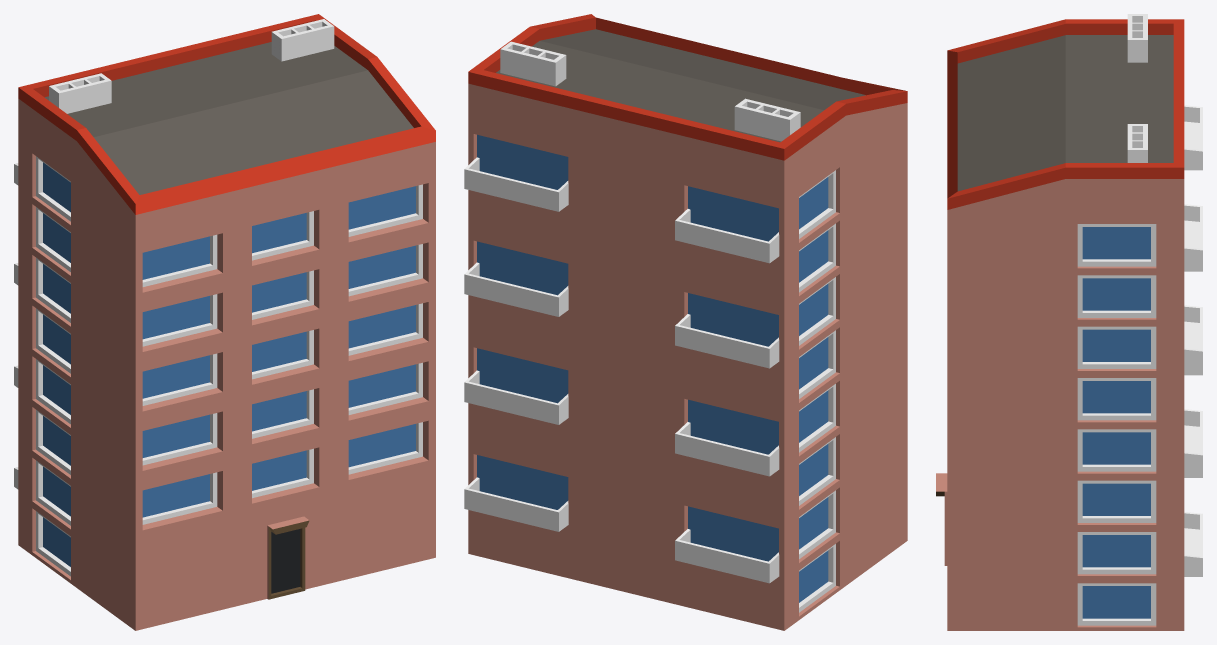
File: Building_2.fbx
3 renders of one model, left to right at view 1: azimuth 30°, elevation 25°; view 2: azimuth 150°, elevation 25°; view 3: azimuth 270°, elevation 25°, orthographic. The views are drawn at different scales.
Visible parts, largest first — view 1: Building_2; view 2: Building_2; view 3: Building_2.
Boxes of the visible parts, x1=… form: Building_2: x1=14, y1=14, x2=435, y2=630; Building_2: x1=464, y1=14, x2=907, y2=630; Building_2: x1=936, y1=14, x2=1202, y2=630.
Bounding box in the file's own units: 779 × 1163 × 592.
